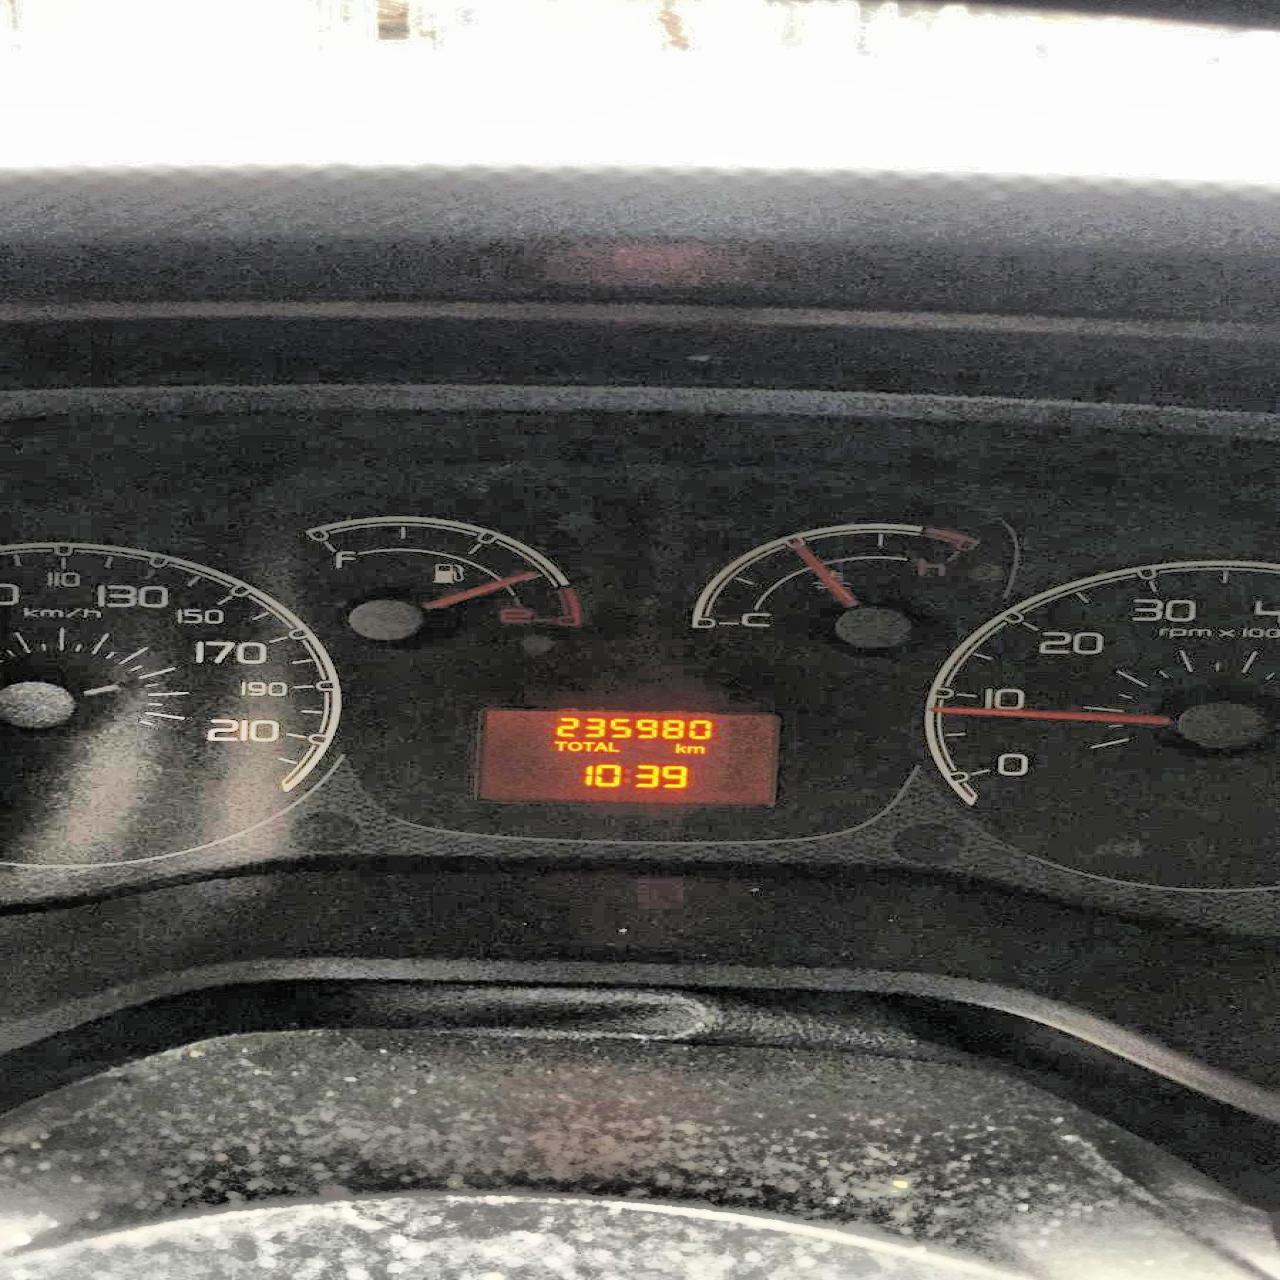0: (592, 763, 620, 788), (687, 717, 714, 738)
1: (583, 762, 591, 788)
2: (554, 715, 578, 737)
3: (635, 762, 656, 789), (581, 715, 605, 737)
5: (607, 716, 632, 738)
8: (660, 719, 685, 737)
9: (659, 764, 688, 788), (635, 716, 656, 738)
X: (685, 743, 704, 755), (581, 738, 595, 753), (621, 764, 631, 785), (567, 740, 583, 753), (552, 740, 566, 753), (672, 741, 686, 754), (605, 741, 619, 753), (595, 741, 605, 753)
odometer: (476, 709, 782, 808)
